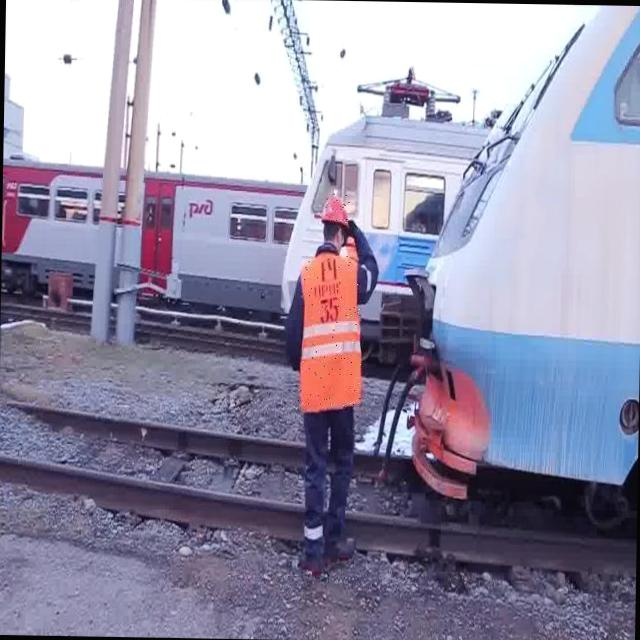boots: (298, 526, 370, 581)
helmet: (318, 192, 352, 228)
vest: (298, 249, 364, 415)
